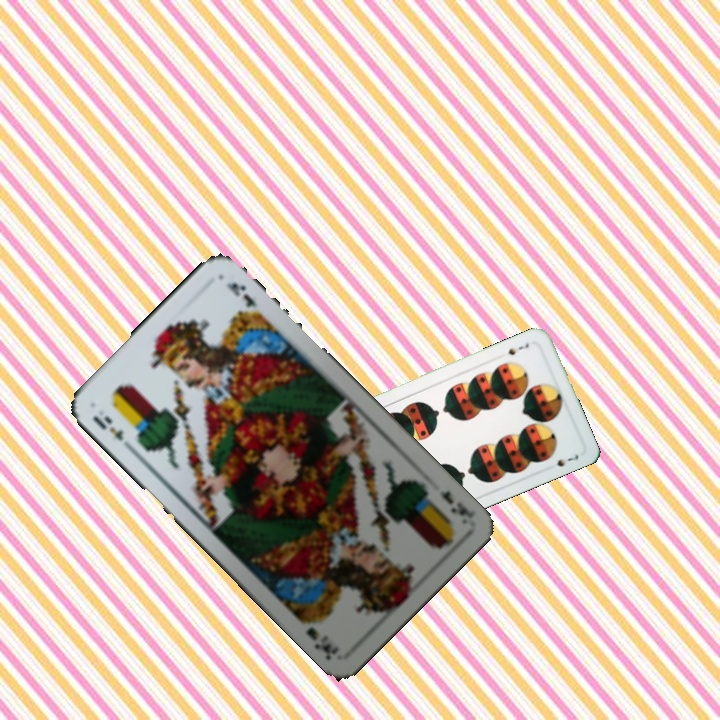EK: (435, 486, 477, 521), (88, 411, 127, 444)
S7: (504, 339, 531, 358)
